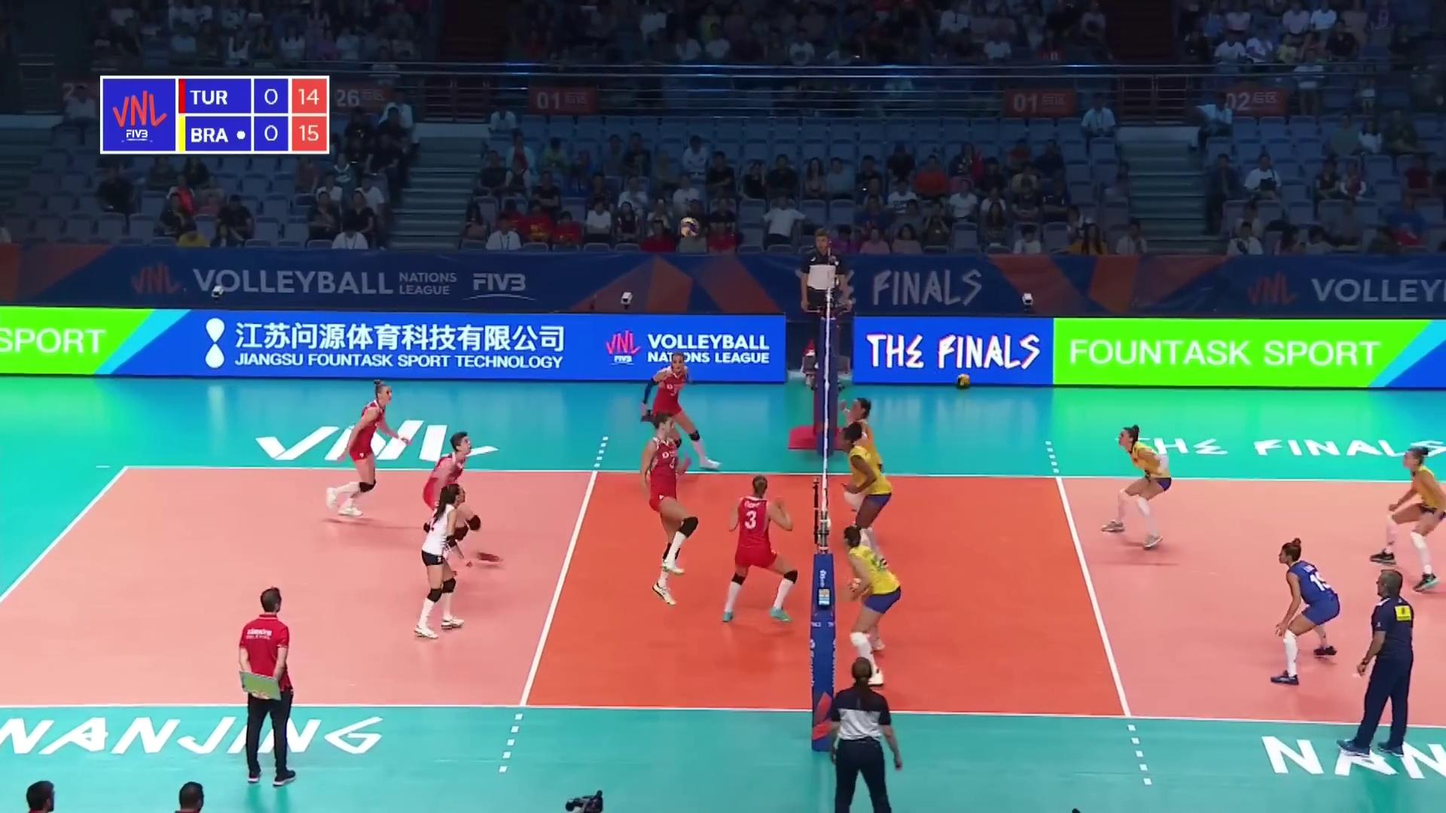player: (640, 409, 699, 604), (720, 477, 797, 624), (328, 382, 407, 525), (1372, 445, 1446, 594), (1269, 537, 1340, 687), (424, 431, 499, 567), (835, 422, 894, 586), (841, 527, 902, 685), (642, 357, 722, 472), (414, 485, 474, 637), (1103, 424, 1175, 548), (841, 397, 886, 536)
refree: (829, 657, 899, 810), (801, 230, 849, 369)
